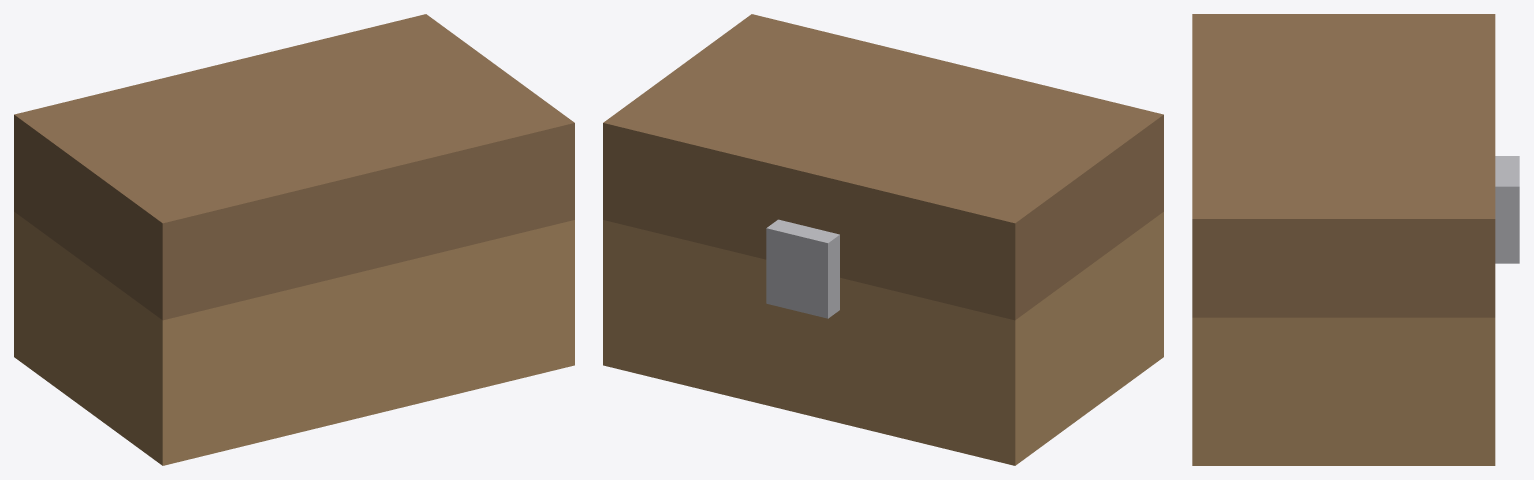
The model's file is chest.glb.
3 renders of one model, left to right at view 1: azimuth 30°, elevation 25°; view 2: azimuth 150°, elevation 25°; view 3: azimuth 270°, elevation 25°, orthographic.
Parts seen in each view (by area): view 1: Cube; view 2: Cube; view 3: Cube.
Part boxes in pixels (box(x1,y1,x2,y2)): Cube: box(14, 14, 574, 465); Cube: box(603, 14, 1163, 465); Cube: box(1192, 14, 1519, 465).
Bounding box in the file's own units: 0.8 × 0.45 × 0.54.
